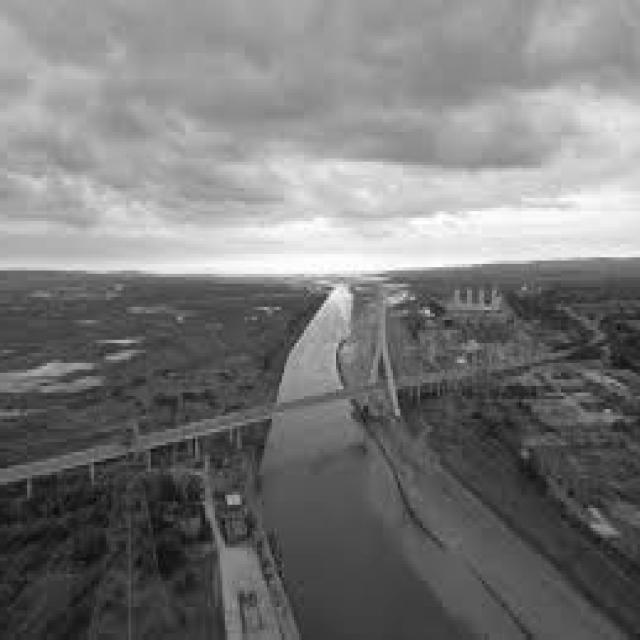Bridges: (0, 247, 556, 574)
